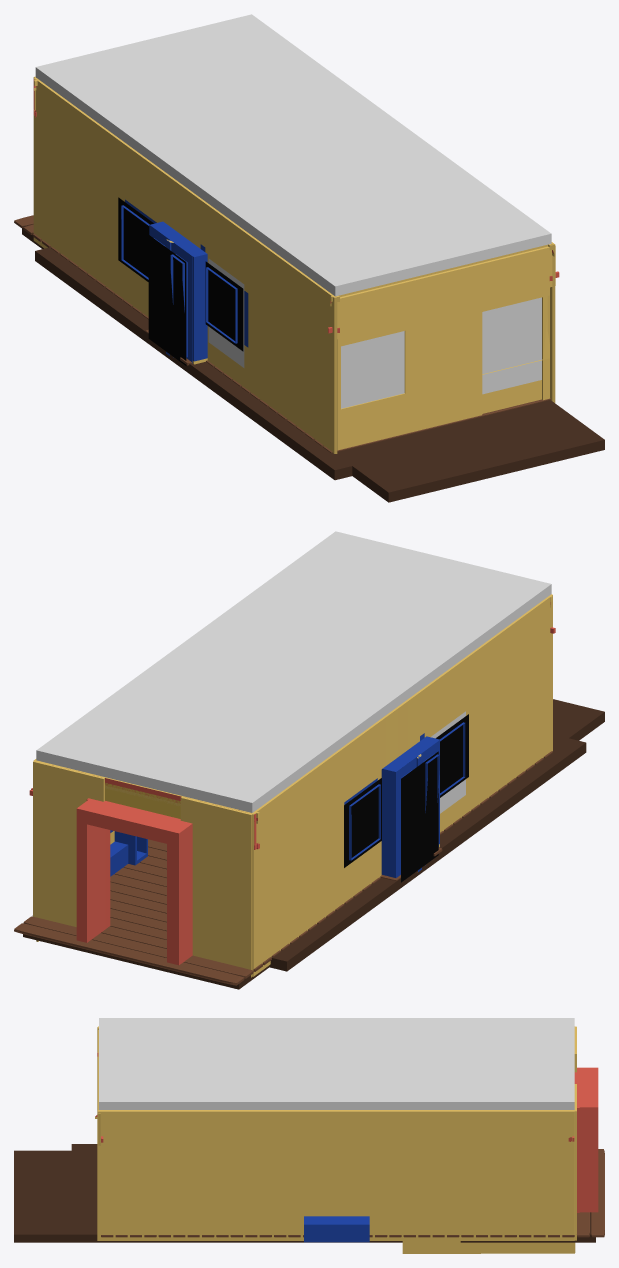
The model's file is Project (remade entrance).fbx.
3 renders of one model, top to bottom at view 1: azimuth 30°, elevation 25°; view 2: azimuth 150°, elevation 25°; view 3: azimuth 270°, elevation 25°, orthographic. The views are drawn at different scales.
Visible parts, largest first — view 1: Cube.010, Green Wall 3.028, Green Wall 3.030, Green Wall 3.016, Cube.017, Cube.011, Plane.006, Cube.013, Plane.001, Plane.004, Cube.012, Green Wall 3.029 (+7 smaller); view 2: Cube.010, Green Wall 3.028, Cube, Green Wall 3.027, Green Wall 3.031, Cube.011, Green Wall 3.029, Plane.004, Plane.070, Plane.003, Plane.069, Plane.002 (+6 smaller); view 3: Green Wall 3.014, Cube.010, Cube, Cube.016, Cube.017, Cube.012, Cube.013, Cube.011, Green Wall 3.042, Cube.128, Cube.005, Plane.070 (+3 smaller).
Boxes of the visible parts, bbox=[...] form: Cube.010: bbox=[35, 14, 551, 296]; Green Wall 3.028: bbox=[33, 78, 337, 453]; Green Wall 3.030: bbox=[337, 287, 549, 450]; Green Wall 3.016: bbox=[337, 246, 555, 339]; Cube.017: bbox=[339, 425, 604, 502]; Cube.011: bbox=[35, 247, 470, 480]; Plane.006: bbox=[482, 297, 541, 394]; Cube.013: bbox=[352, 400, 586, 488]; Plane.001: bbox=[341, 331, 404, 408]; Plane.004: bbox=[148, 235, 186, 365]; Cube.012: bbox=[349, 401, 574, 481]; Green Wall 3.029: bbox=[121, 199, 248, 363]; Cube.010: bbox=[36, 531, 551, 812]; Green Wall 3.028: bbox=[251, 594, 552, 976]; Cube: bbox=[76, 798, 192, 965]; Green Wall 3.027: bbox=[180, 797, 252, 977]; Green Wall 3.031: bbox=[33, 760, 104, 926]; Cube.011: bbox=[269, 734, 586, 971]; Green Wall 3.029: bbox=[344, 722, 465, 877]; Plane.004: bbox=[401, 751, 438, 882]; Plane.070: bbox=[14, 923, 244, 985]; Plane.003: bbox=[344, 778, 381, 867]; Plane.069: bbox=[23, 916, 253, 978]; Plane.002: bbox=[436, 714, 468, 797]; Green Wall 3.014: bbox=[97, 1110, 574, 1240]; Cube.010: bbox=[99, 1018, 574, 1109]; Cube: bbox=[574, 1067, 598, 1212]; Cube.016: bbox=[28, 1150, 395, 1242]; Cube.017: bbox=[14, 1150, 489, 1242]; Cube.012: bbox=[57, 1150, 515, 1242]; Cube.013: bbox=[42, 1150, 495, 1242]; Cube.011: bbox=[71, 1144, 546, 1242]; Green Wall 3.042: bbox=[402, 1241, 575, 1253]; Cube.128: bbox=[304, 1216, 369, 1242]; Cube.005: bbox=[86, 1150, 561, 1242]; Plane.070: bbox=[591, 1149, 604, 1237].
Size of the model in its own units: 15052 by 10465 by 36902.
